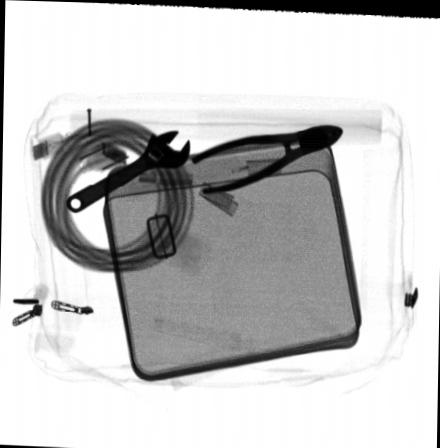Pliers: (187, 121, 345, 195)
Wrench: (65, 128, 189, 211)
